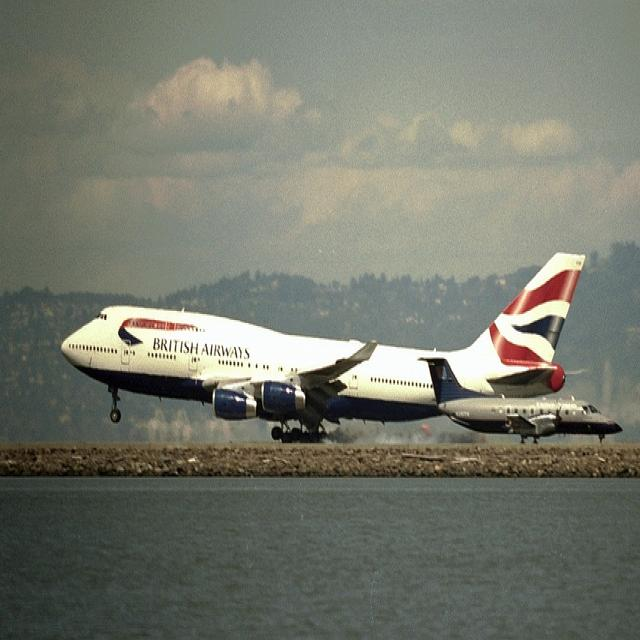airplane: (59, 246, 588, 447), (418, 354, 624, 448)
